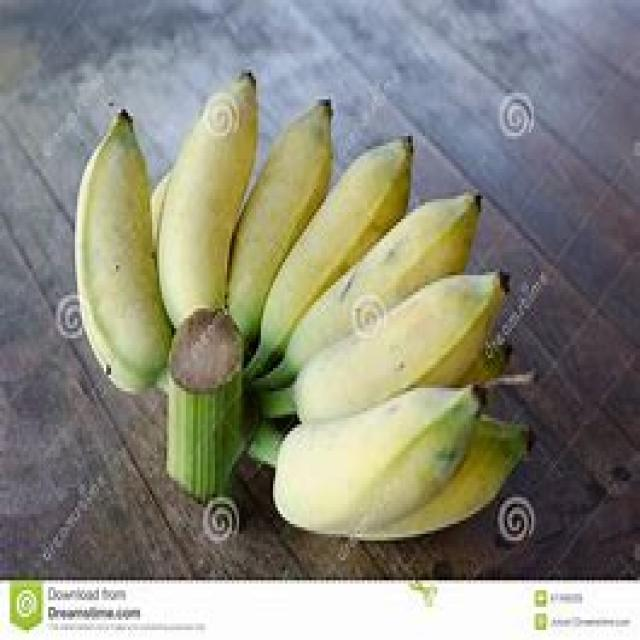banana: (79, 66, 547, 568)
